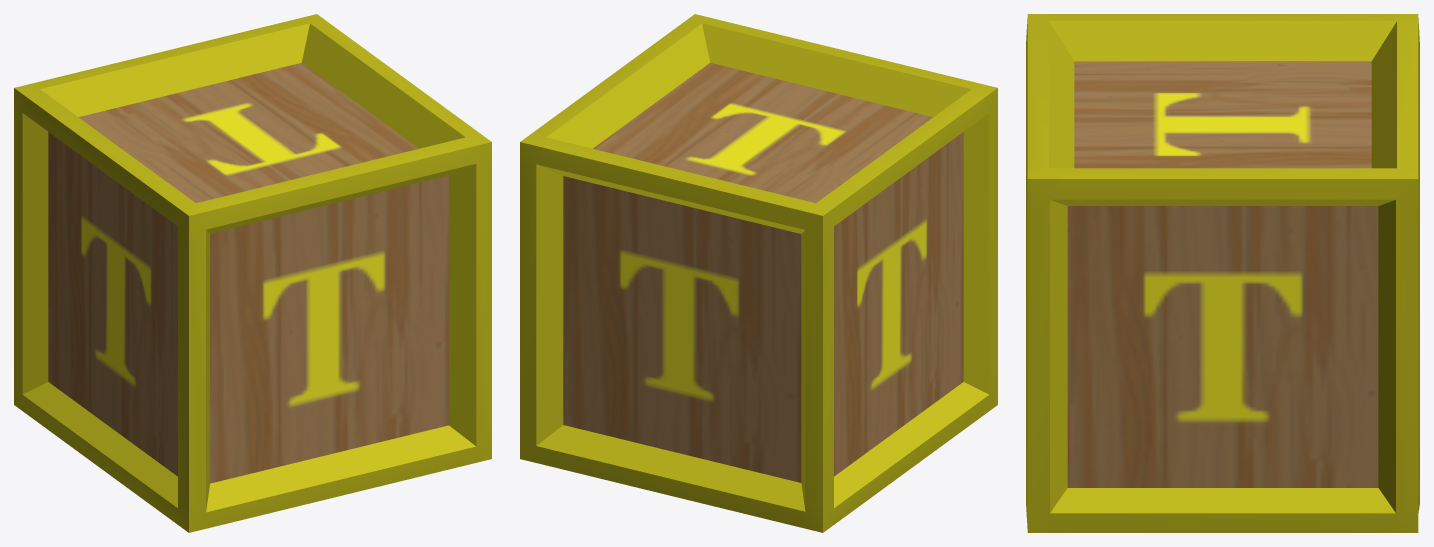
Rendered from Letter_T.fbx.
3 views of the same model, side by side, from view 1: azimuth 30°, elevation 25°; view 2: azimuth 150°, elevation 25°; view 3: azimuth 270°, elevation 25° (orthographic). The views are drawn at different scales.
Parts seen in each view (by area): view 1: LetterBlock_T; view 2: LetterBlock_T; view 3: LetterBlock_T.
Part boxes in pixels (bbox=[...]): LetterBlock_T: bbox=[14, 14, 491, 532]; LetterBlock_T: bbox=[520, 14, 997, 532]; LetterBlock_T: bbox=[1026, 14, 1419, 532].
Bounding box in the file's own units: 0.1209 × 0.1213 × 0.121.
Materials: 1 (1 with a texture image).
